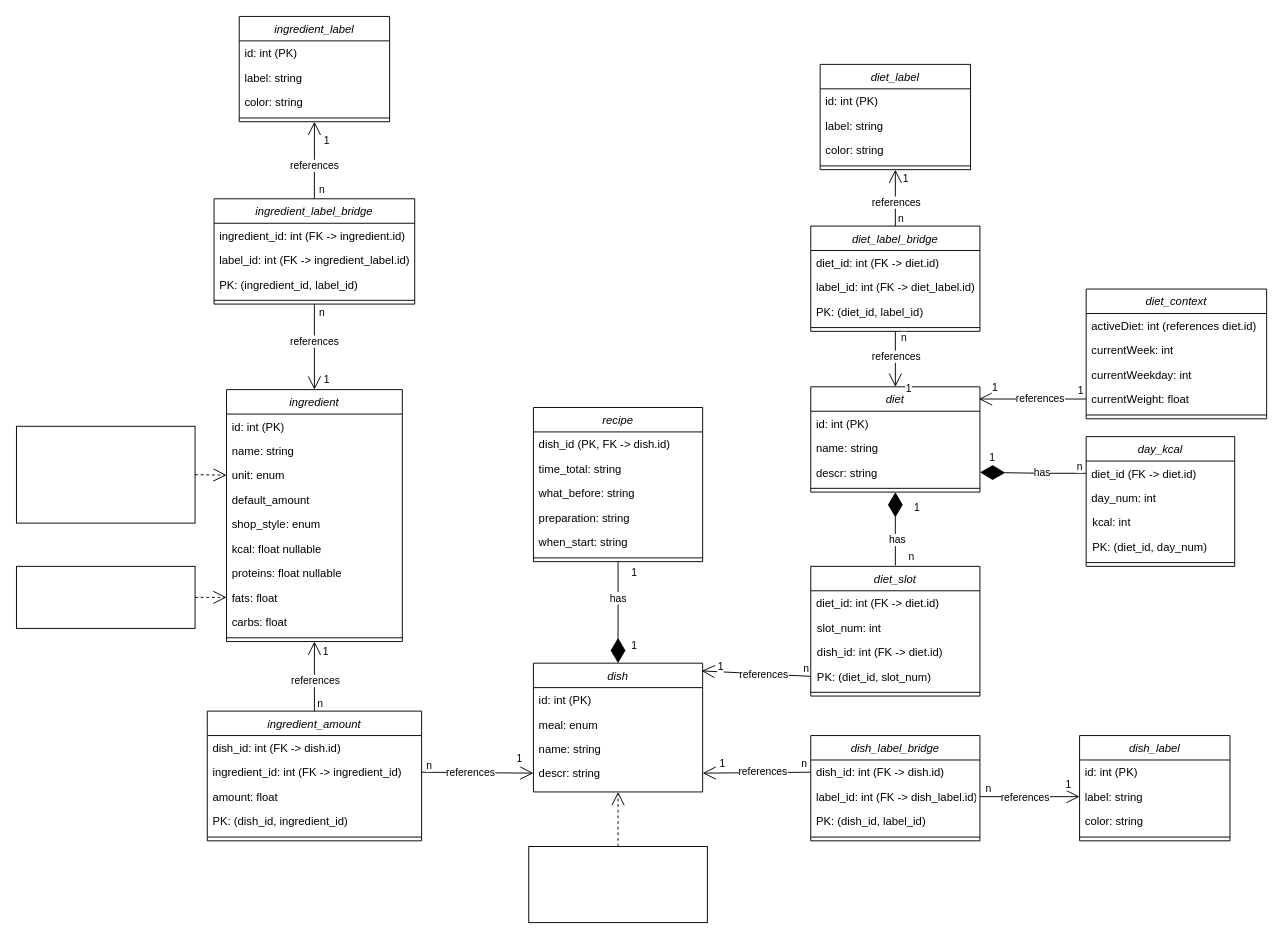
Image size: 1283x939. Some labels were removed from this diagram. The shapes that lost their labels are listed below. From the top down, each one's centre as x and y in pixels, then its label:
the point at 105,474: <<enum>> Unit g, porcja, sztuka, kromka, łyżeczka, łyżka, opakowanie, szczypta
the point at 105,596: <<enum>> ShopStyle Lidl, Świeże, Zapasy
the point at 617,884: <<enum>> Meal Breakfast, Main Meal, Pre-Workout, Post-Workout
